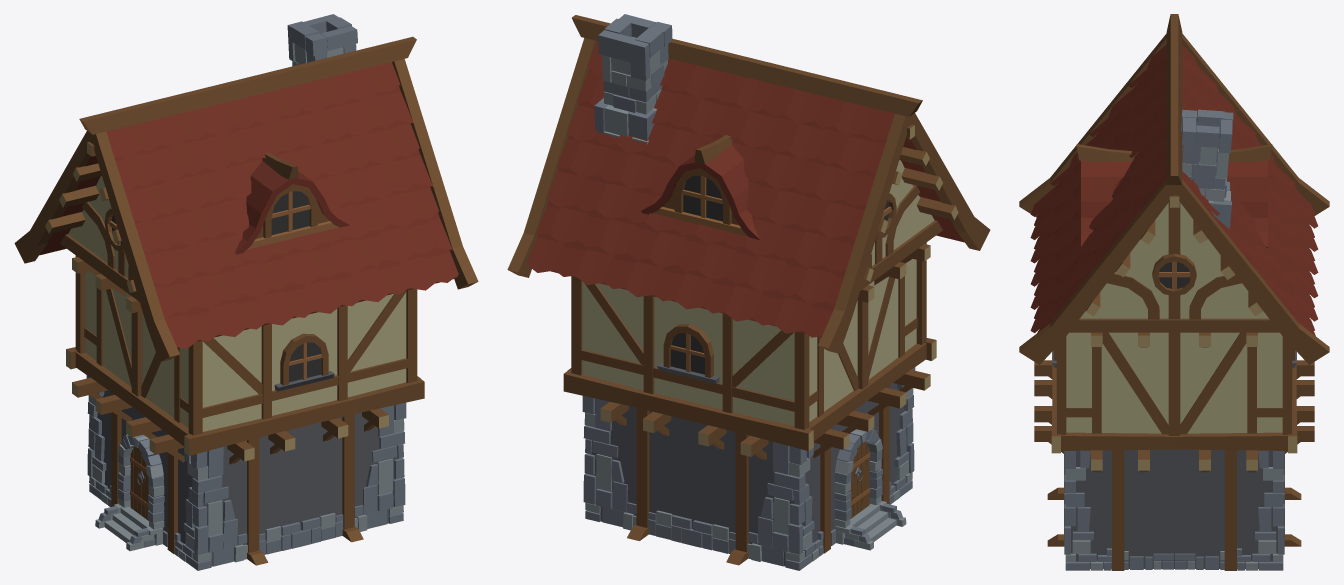
The model's file is house_1.004_lev2.glb.
3 renders of one model, left to right at view 1: azimuth 30°, elevation 25°; view 2: azimuth 150°, elevation 25°; view 3: azimuth 270°, elevation 25°, orthographic. The views are drawn at different scales.
Parts seen in each view (by area): view 1: house_1.004_lev2; view 2: house_1.004_lev2; view 3: house_1.004_lev2.
Part boxes in pixels (x1,y1,x2,y2): house_1.004_lev2: (14, 14, 478, 570); house_1.004_lev2: (507, 14, 990, 570); house_1.004_lev2: (1019, 14, 1329, 570).
Size of the model in its own units: 5.32 by 6.78 by 4.29.
